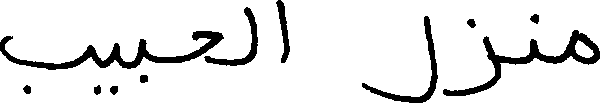ا: (273, 0, 289, 63)
ب: (0, 34, 93, 94), (135, 37, 145, 84)
ح: (191, 29, 222, 65)
ز: (442, 16, 502, 95)
ل: (361, 14, 439, 102), (243, 4, 256, 64)
م: (567, 28, 598, 65)
ن: (527, 12, 540, 63)
ي: (93, 41, 119, 93)
